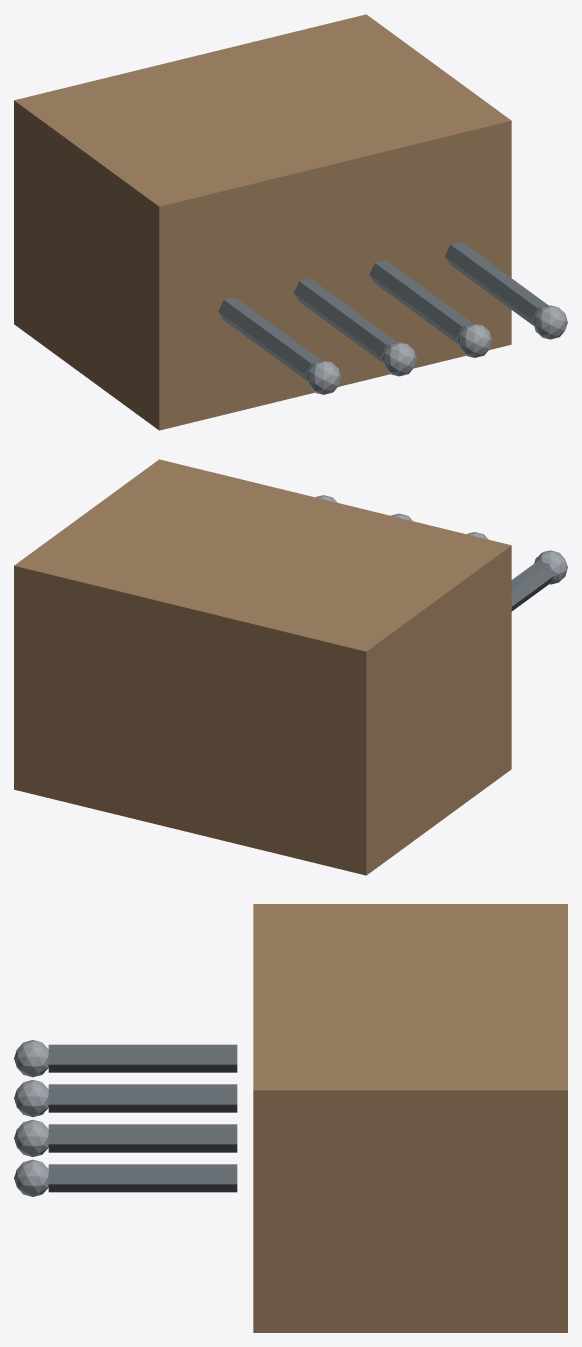
Rendered from nails.glb.
The picture shows the model from 3 angles, top to bottom: view 1: azimuth 30°, elevation 25°; view 2: azimuth 150°, elevation 25°; view 3: azimuth 270°, elevation 25°; orthographic projection. The views are drawn at different scales.
Parts seen in each view (by area): view 1: 00_package, 07_nail, 09_nail, 03_nail, 05_nail, 06_nail_head, 08_nail_head, 04_nail_head, 10_nail_head; view 2: 00_package, 03_nail, 04_nail_head; view 3: 00_package, 05_nail, 07_nail, 03_nail, 09_nail, 04_nail_head, 10_nail_head, 06_nail_head, 08_nail_head.
Boxes of the visible parts, x1=… form: 00_package: x1=14, y1=14, x2=511, y2=430; 07_nail: x1=369, y1=260, x2=473, y2=344; 09_nail: x1=445, y1=241, x2=548, y2=325; 03_nail: x1=218, y1=297, x2=321, y2=381; 05_nail: x1=294, y1=278, x2=397, y2=362; 06_nail_head: x1=382, y1=342, x2=416, y2=376; 08_nail_head: x1=457, y1=324, x2=492, y2=357; 04_nail_head: x1=306, y1=360, x2=341, y2=394; 10_nail_head: x1=533, y1=305, x2=567, y2=339; 00_package: x1=14, y1=459, x2=511, y2=875; 03_nail: x1=511, y1=561, x2=554, y2=611; 04_nail_head: x1=534, y1=550, x2=567, y2=584; 00_package: x1=253, y1=904, x2=567, y2=1332; 05_nail: x1=48, y1=1084, x2=237, y2=1112; 07_nail: x1=48, y1=1124, x2=237, y2=1152; 03_nail: x1=48, y1=1044, x2=237, y2=1072; 09_nail: x1=48, y1=1164, x2=237, y2=1192; 04_nail_head: x1=14, y1=1040, x2=48, y2=1077; 10_nail_head: x1=14, y1=1159, x2=48, y2=1196; 06_nail_head: x1=14, y1=1080, x2=48, y2=1117; 08_nail_head: x1=14, y1=1119, x2=48, y2=1156.
Bounding box in the file's own units: 0.28 × 0.183 × 0.352.
